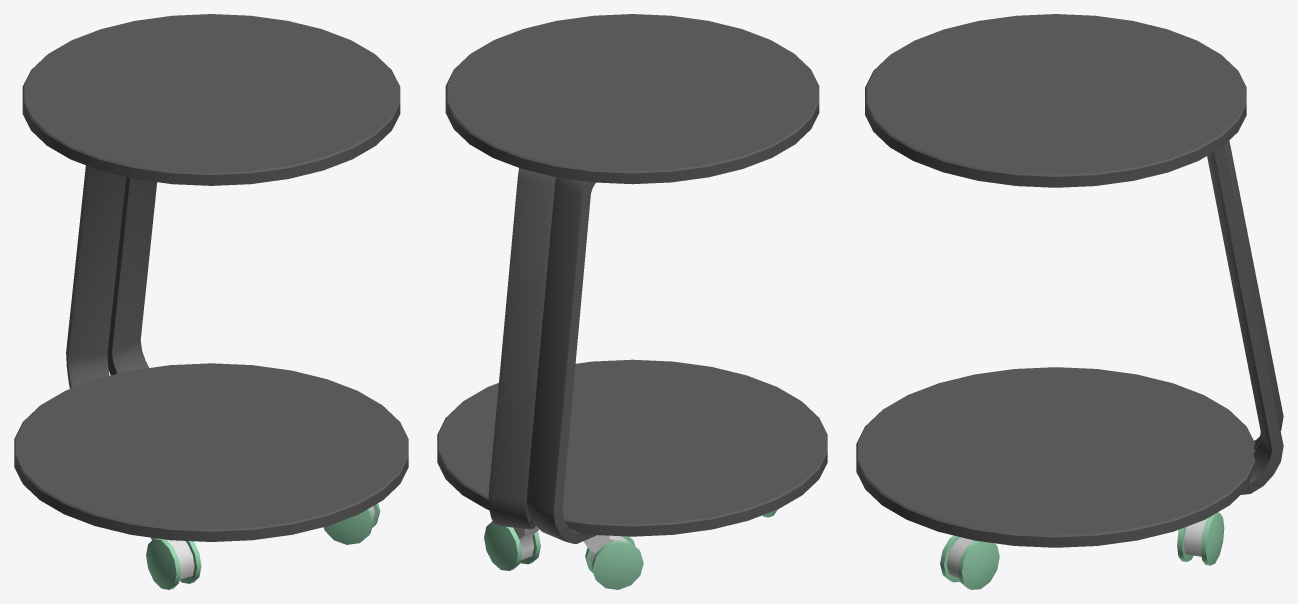
The model's file is AnesBedsideTable.FBX.
3 views of the same model, side by side, from view 1: azimuth 30°, elevation 25°; view 2: azimuth 150°, elevation 25°; view 3: azimuth 270°, elevation 25° (orthographic). The views are drawn at different scales.
Visible parts, largest first — view 1: AnesBedsideTable; view 2: AnesBedsideTable; view 3: AnesBedsideTable.
Part boxes in pixels (x1=…): AnesBedsideTable: x1=14, y1=14, x2=408, y2=589; AnesBedsideTable: x1=437, y1=14, x2=827, y2=589; AnesBedsideTable: x1=856, y1=14, x2=1283, y2=589.
Size of the model in its own units: 46 by 49 by 56.
